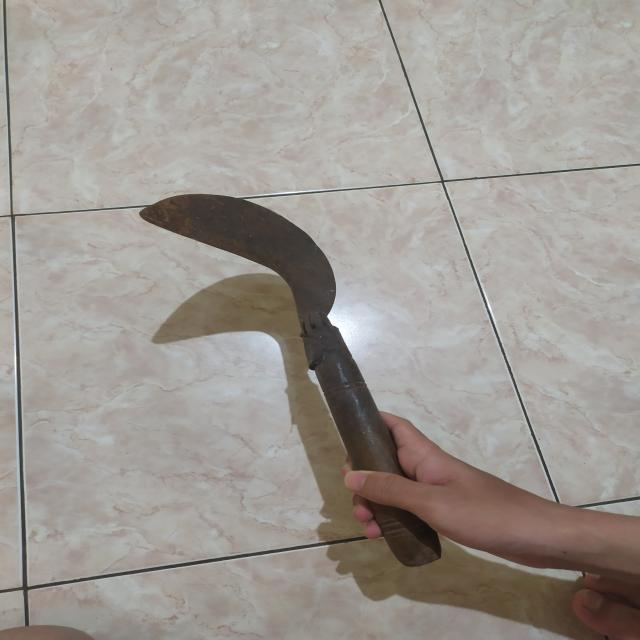machete: (137, 190, 450, 568)
